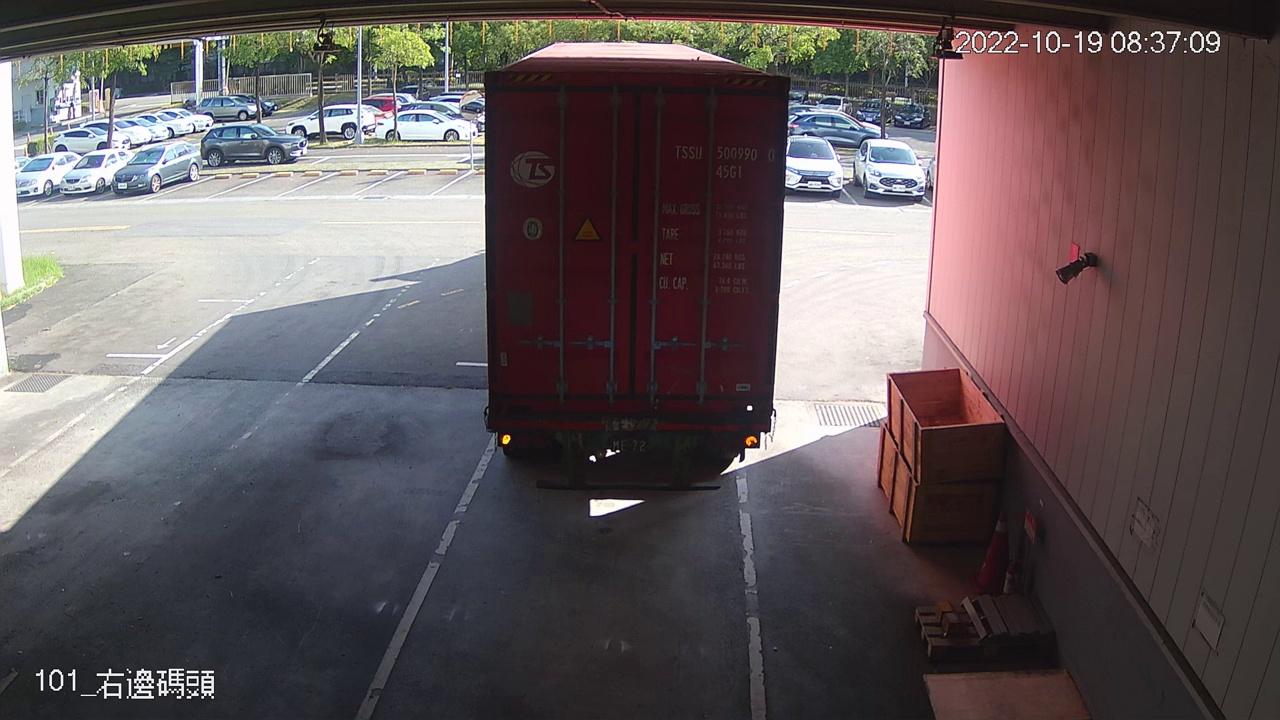container: (669, 138, 781, 186)
